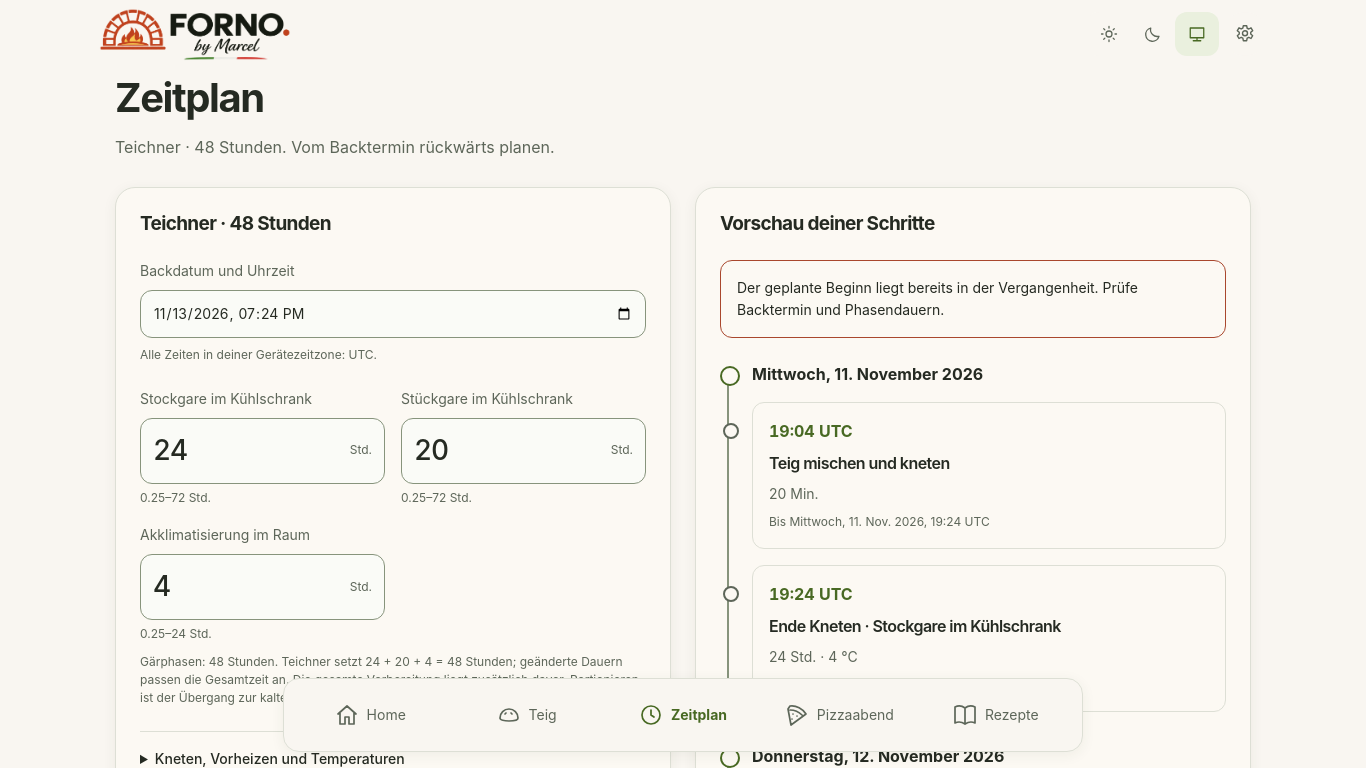
Test: Theme changes preserve app state › keeps an unsaved schedule draft, timeline and navigation in both modes
This screenshot has width=1366, height=768.
Step 1. Replace the text in the field labelled "Stockgare im Kühlschrank Std. 0.25–72 Std." with "3,5" → [247, 450], box [153, 426, 342, 474]
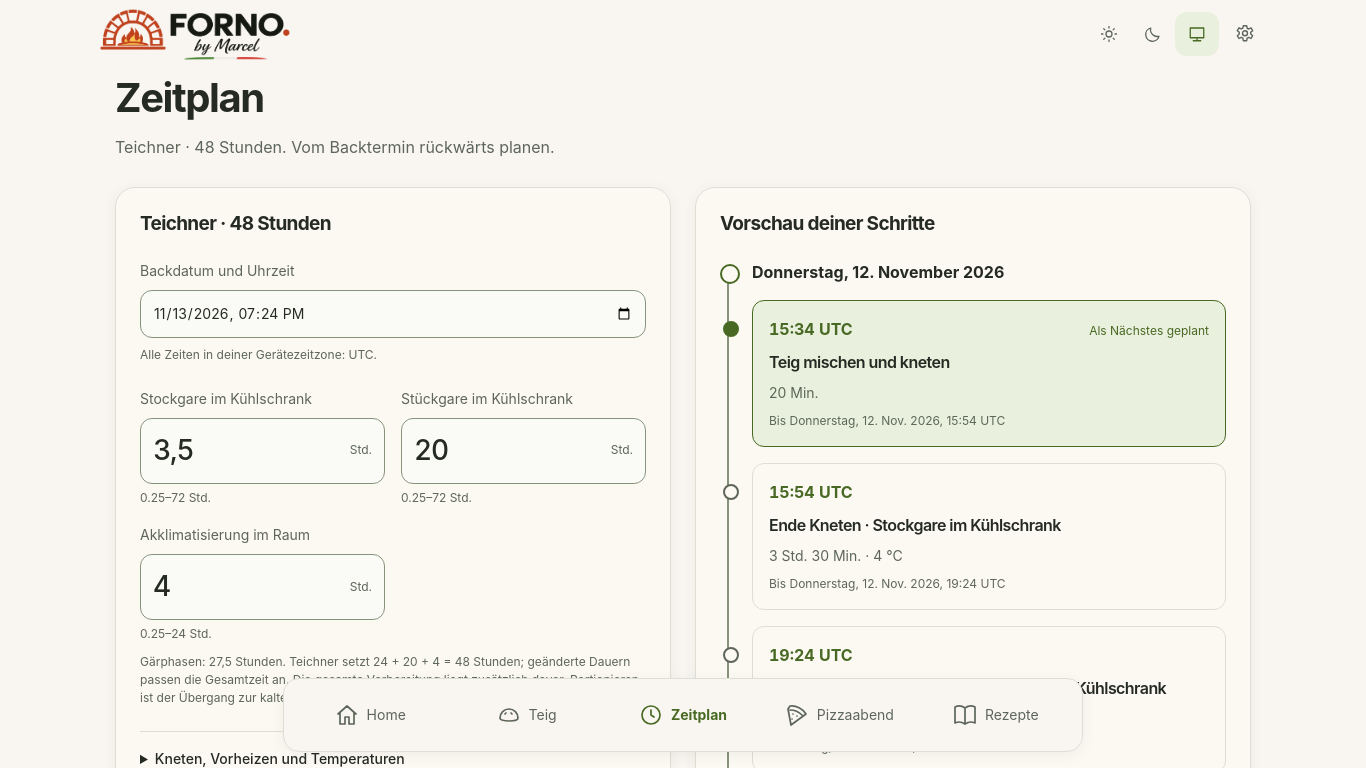
Step 2. Click the button named "Dunkel" → [1153, 34], box [1131, 12, 1175, 56]
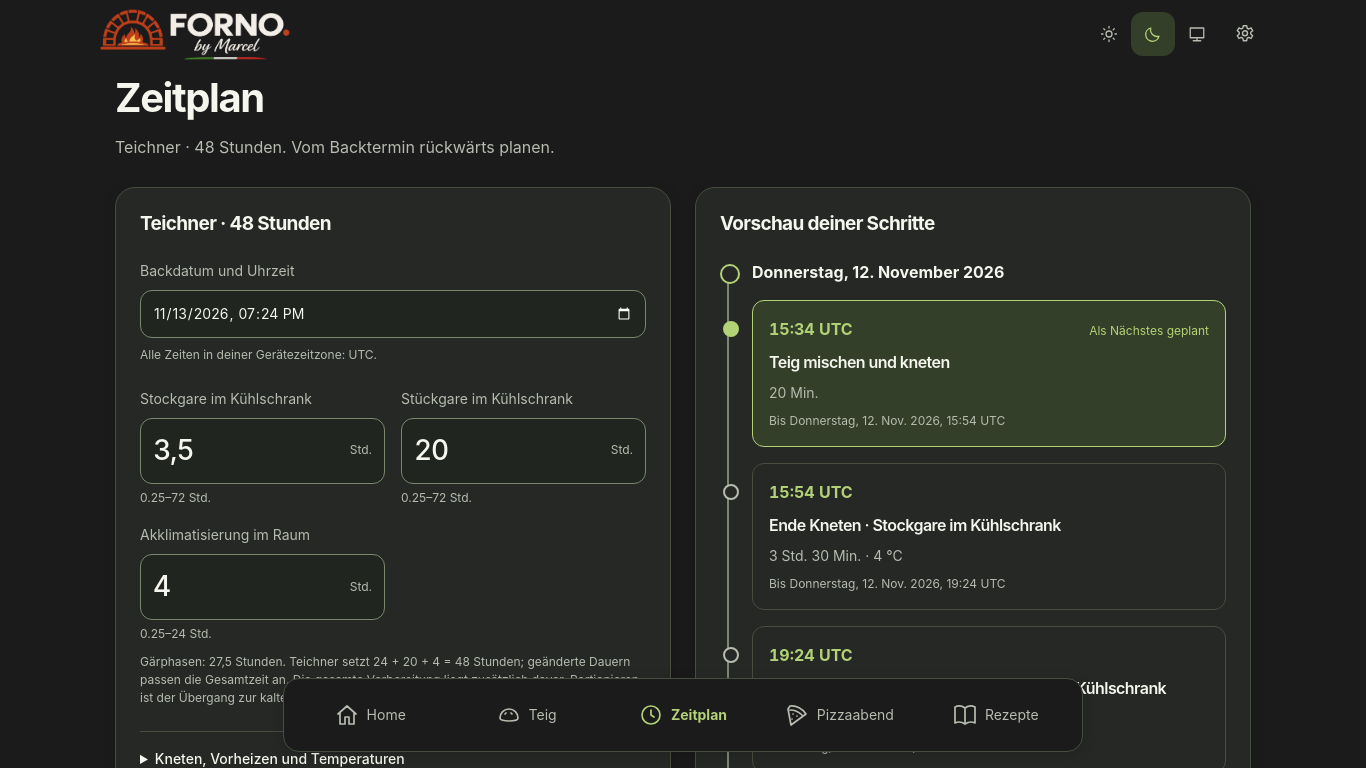
Step 3. Click the button named "Hell" → [1109, 34], box [1087, 12, 1131, 56]
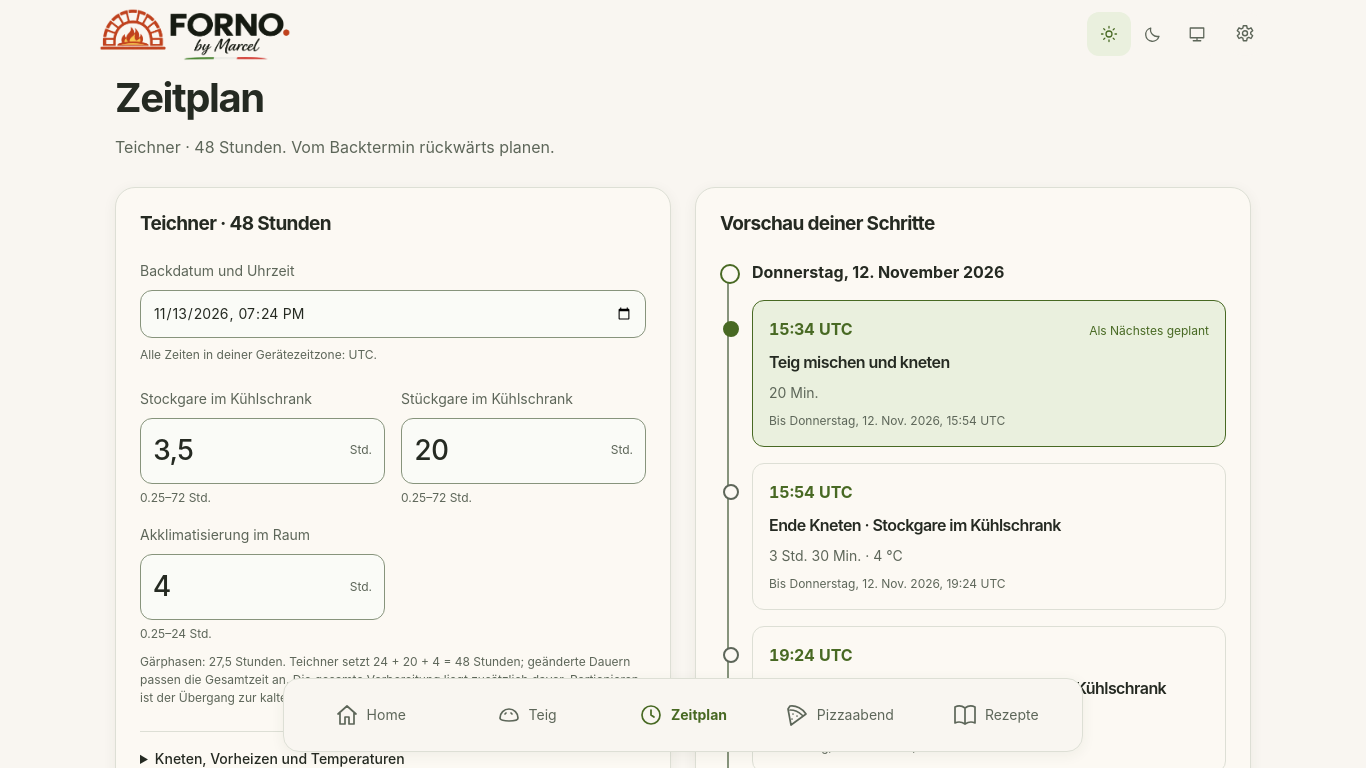
Step 4. Click the link "Home" → [370, 715], box [335, 703, 406, 727]
(page scrolled)
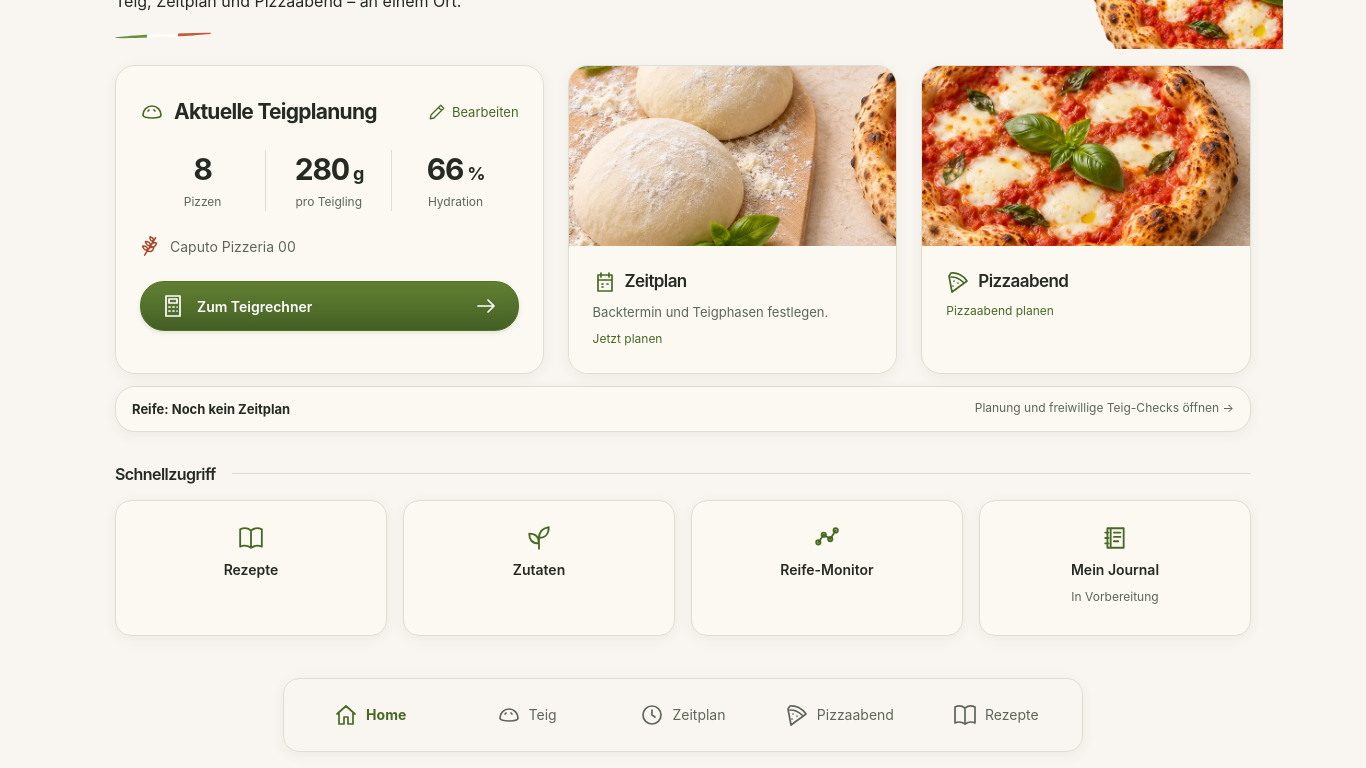
Expected: the heading "Aktuelle Teigplanung" is shown, [140, 99, 377, 125]
Step 5. Click the link "Mein Journal In Vorbereitung" → [1115, 568], box [979, 500, 1251, 636]
(page scrolled)
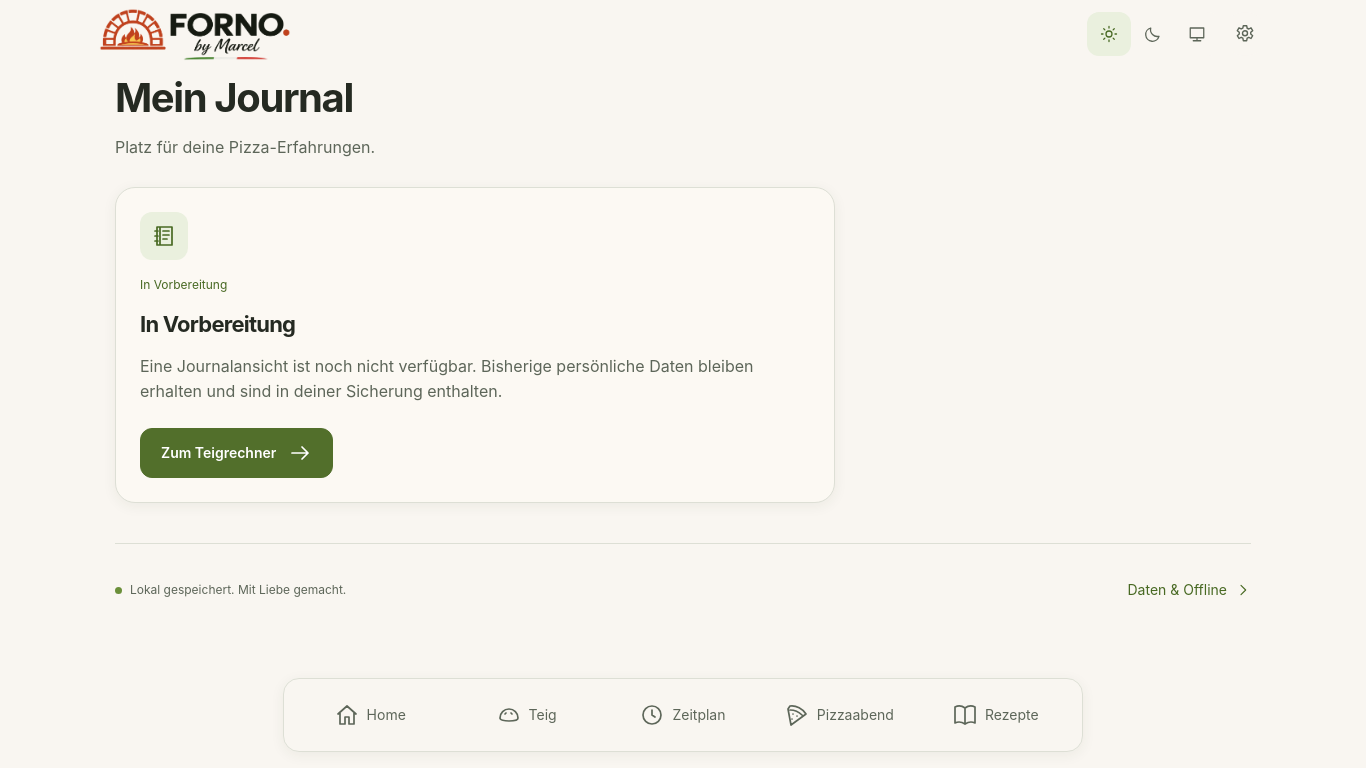
Expected: the heading "Mein Journal" is shown, [115, 73, 353, 122]
Expected: the text "Eine Journalansicht ist noch nicht verfügbar" is shown, [140, 356, 754, 401]
